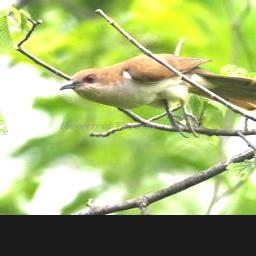Cuckoo: (57, 53, 256, 137)
